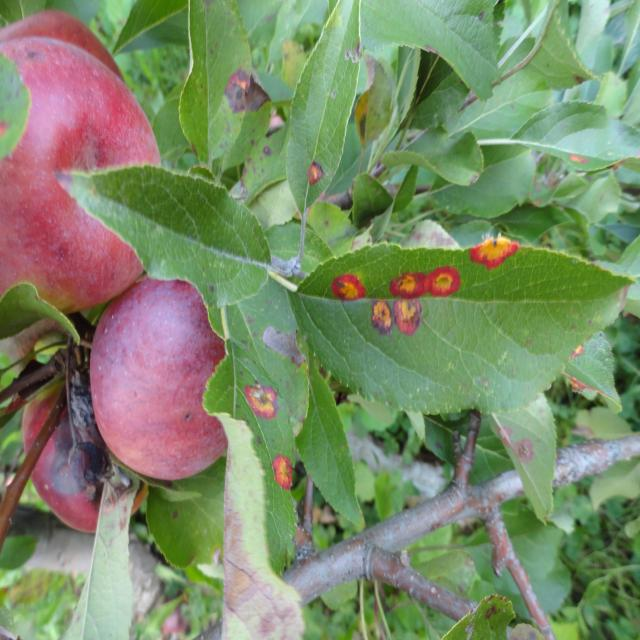Rust: (388, 260, 468, 302), (468, 225, 521, 283), (223, 62, 272, 120), (317, 269, 368, 309), (239, 378, 281, 424), (394, 298, 434, 342), (270, 450, 303, 498), (368, 289, 396, 343), (300, 157, 327, 193), (562, 146, 592, 173)
